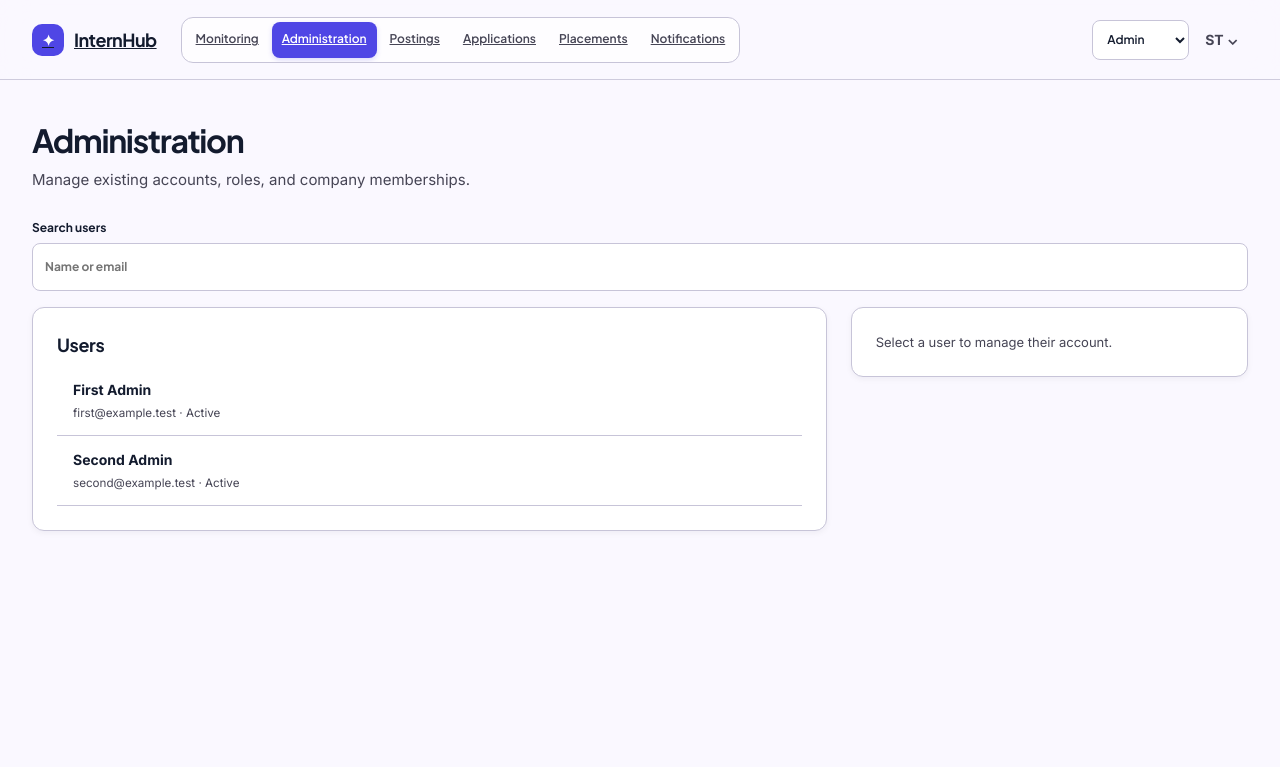
it: ApiApp utilities and routes › resets the Admin role editor when the selected user changes or refreshes
Click the button "First Admin first@example.test · Active": [112, 390] box top-left (57, 366), bottom-right (802, 436)
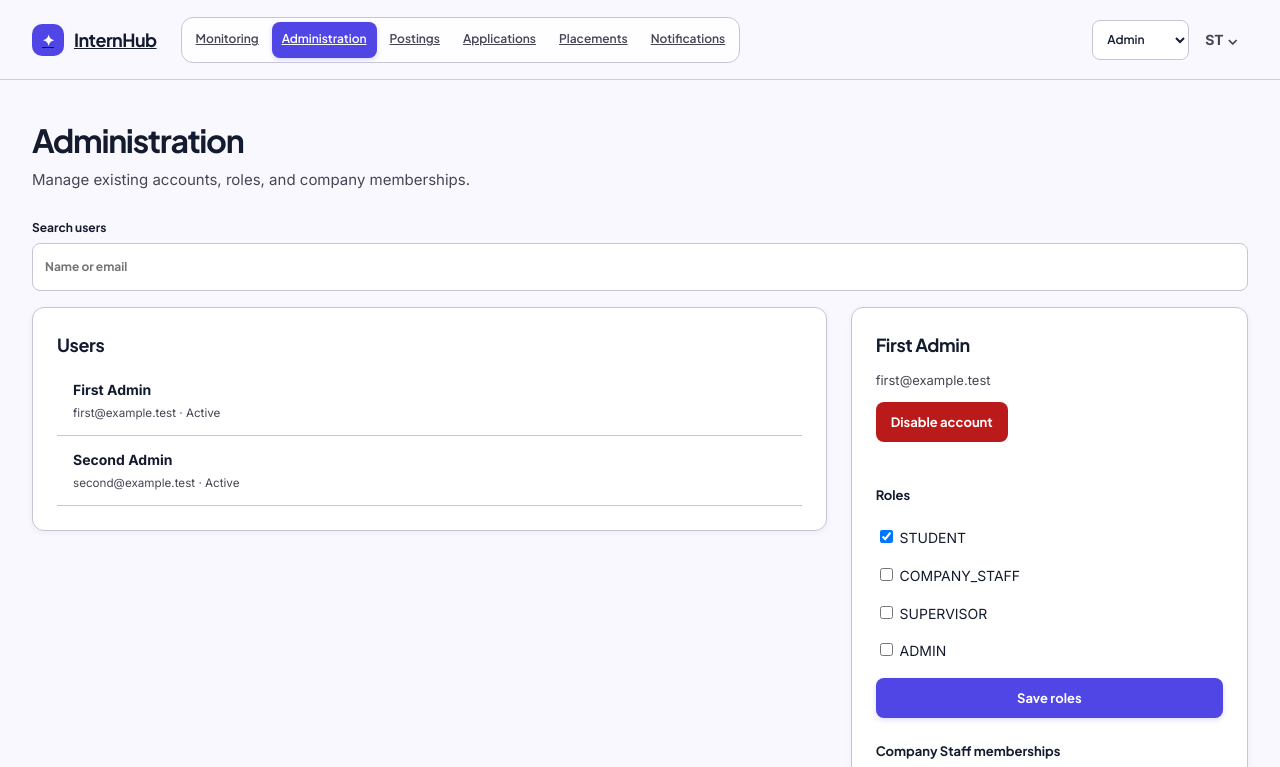
Expected: the checkbox labelled "STUDENT" is checked, top-left (880, 530), bottom-right (893, 543)
Click the button "Save roles": [1049, 698] box top-left (876, 678), bottom-right (1223, 718)
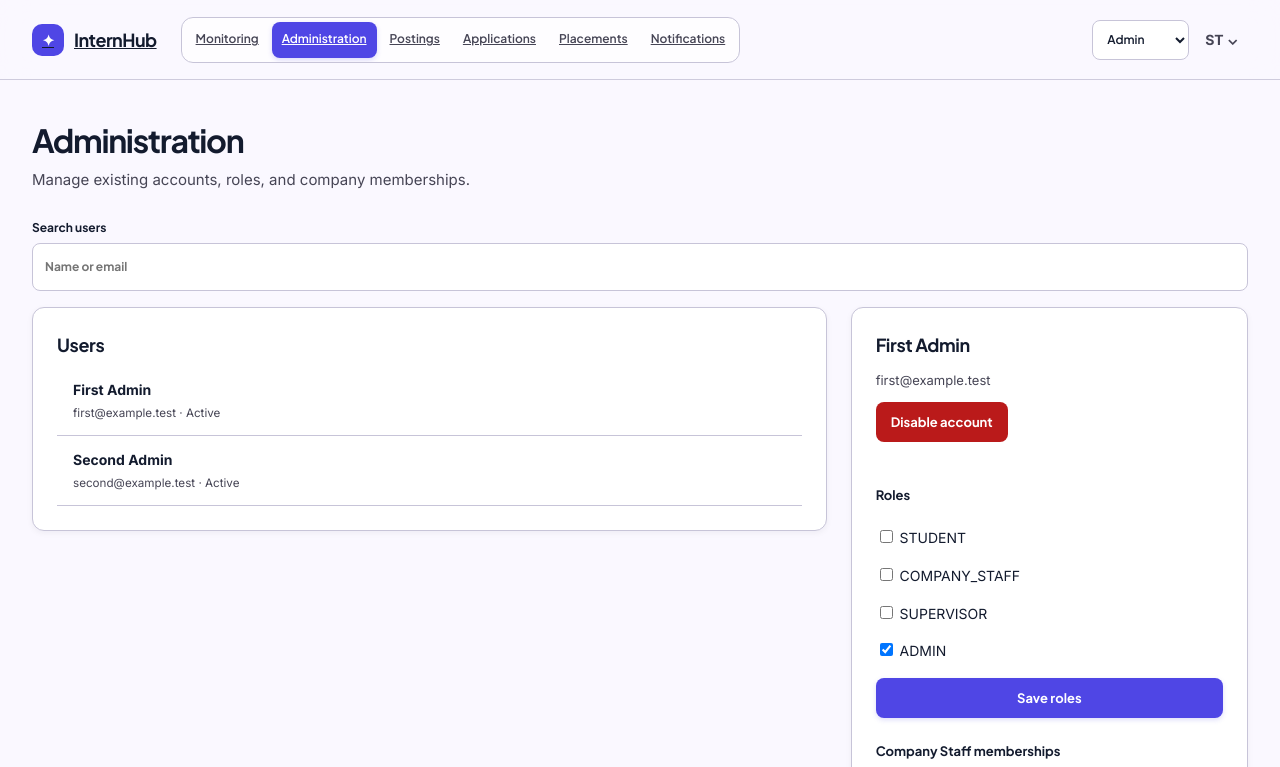
Expected: the checkbox labelled "ADMIN" is checked, top-left (880, 643), bottom-right (893, 656)
Expected: the checkbox labelled "STUDENT" is not checked, top-left (880, 530), bottom-right (893, 543)
Click the button "Second Admin second@example.test · Active": [123, 460] box top-left (57, 436), bottom-right (802, 506)
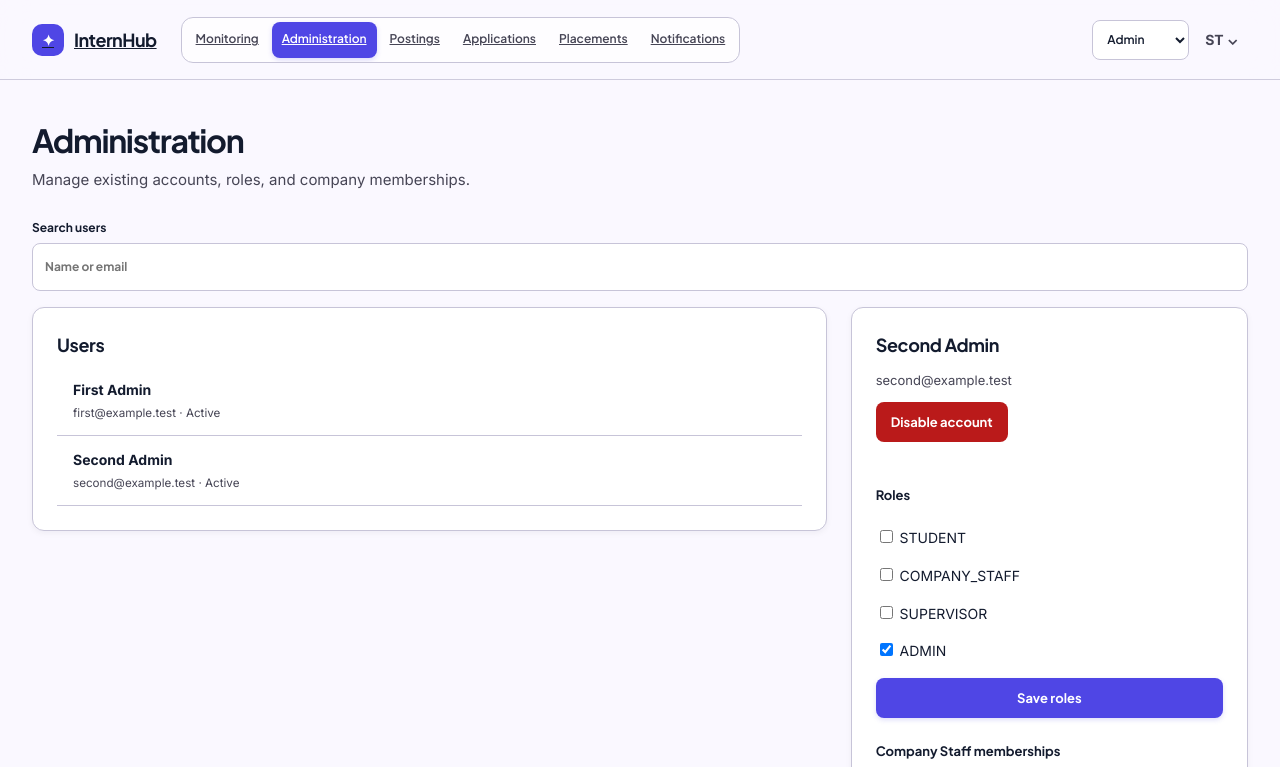
Expected: the checkbox labelled "ADMIN" is checked, top-left (880, 643), bottom-right (893, 656)
Expected: the checkbox labelled "STUDENT" is not checked, top-left (880, 530), bottom-right (893, 543)
Expected: the heading "Second Admin" is shown, top-left (876, 333), bottom-right (999, 356)
